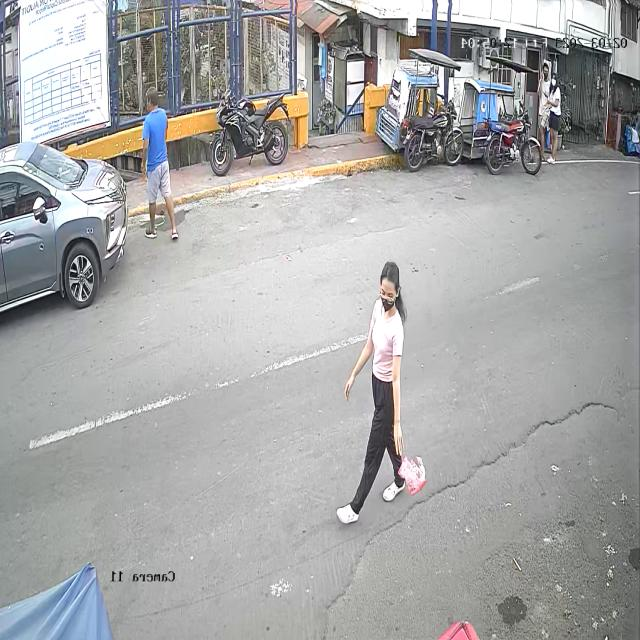human: (336, 262, 427, 524)
trash: (393, 454, 430, 499)
